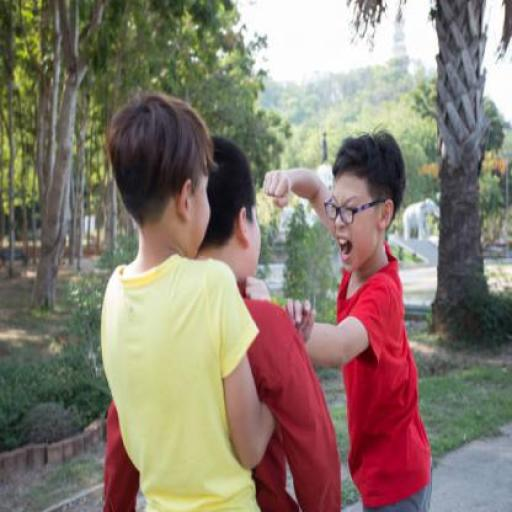Fighting: (220, 123, 437, 512)
